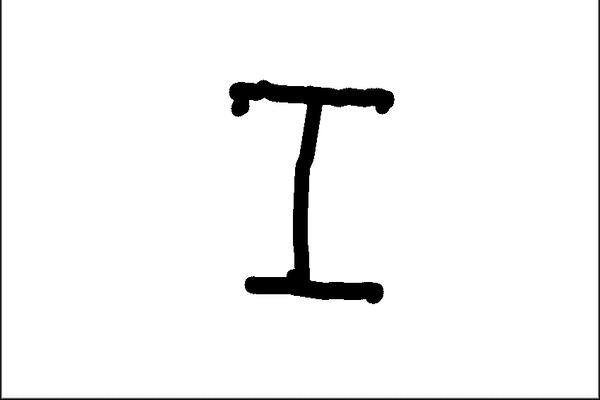i: (217, 70, 405, 317)
